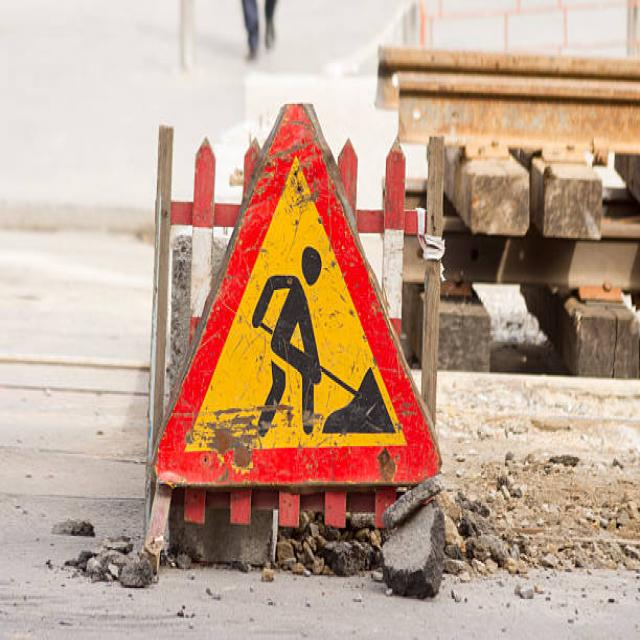road_work: (160, 102, 437, 496)
